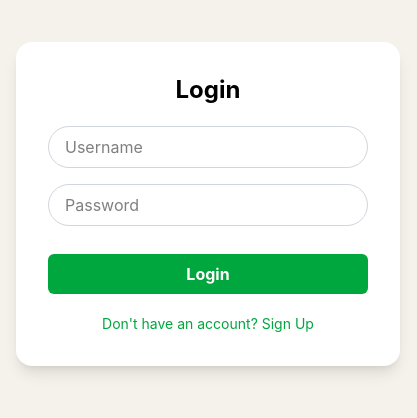
AuthForm › falls back to a default error message
Click the button "Login".
click(208, 274)  # box [48, 254, 368, 294]
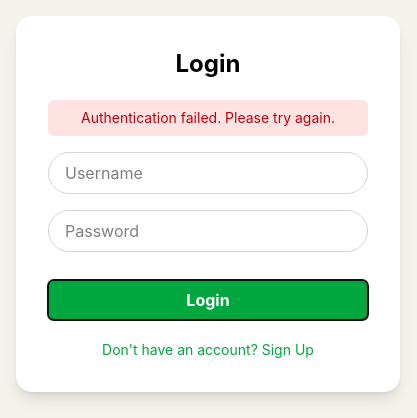
Now the text "Authentication failed. Please try again." is shown, box [48, 100, 368, 136]
